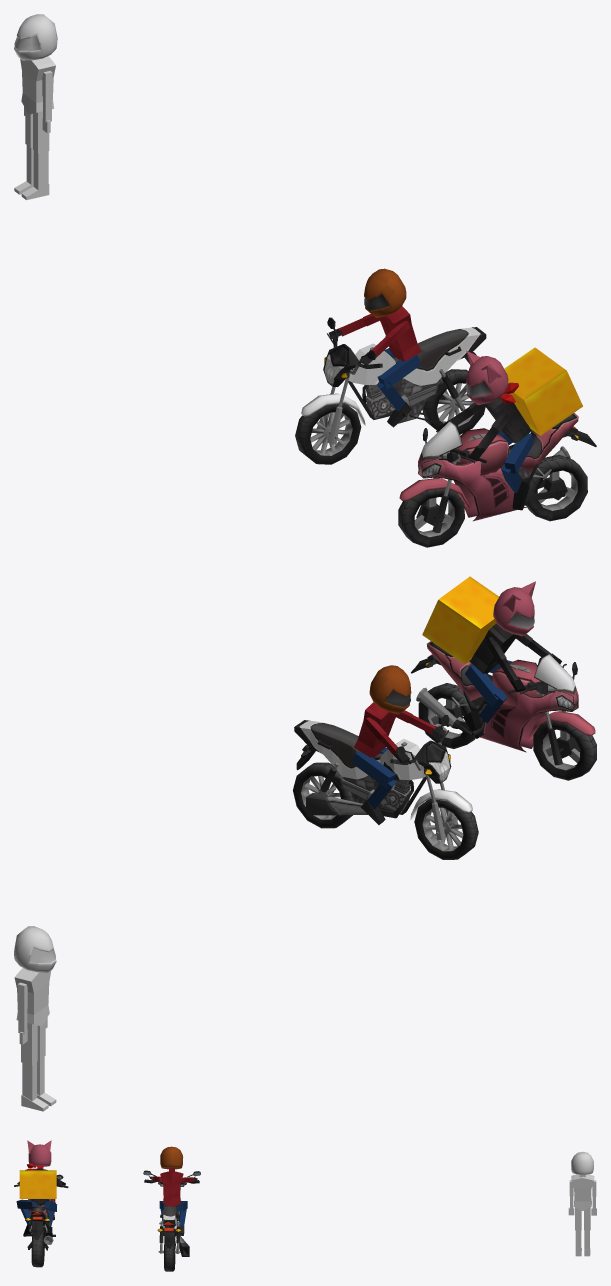
The model's file is corpo.fbx.
3 views of the same model, one above another, from view 1: azimuth 30°, elevation 25°; view 2: azimuth 150°, elevation 25°; view 3: azimuth 270°, elevation 25° (orthographic). The views are drawn at different scales.
Visible parts, largest first — view 1: moto-ninja-rosa.001, moto-cg- branca, Cube, Cube.001, Cube.002, Cube.004; view 2: moto-cg- branca, moto-ninja-rosa.001, Cube, Cube.002, Cube.001, Cube.004; view 3: Cube, Cube.002, moto-cg- branca, Cube.001, moto-ninja-rosa.001, Cube.004.
Part boxes in pixels (box(x1,y1,x2,y2)): moto-ninja-rosa.001: box(398, 413, 596, 547); moto-cg- branca: box(295, 317, 486, 464); Cube: box(14, 14, 57, 200); Cube.001: box(438, 350, 533, 510); Cube.002: box(329, 268, 421, 427); Cube.004: box(504, 347, 582, 435); moto-cg- branca: box(293, 715, 478, 859); moto-ninja-rosa.001: box(411, 641, 596, 780); Cube: box(14, 926, 56, 1111); Cube.002: box(352, 665, 446, 824); Cube.001: box(463, 581, 561, 738); Cube.004: box(422, 576, 498, 664); Cube: box(568, 1151, 596, 1256); Cube.002: box(150, 1146, 197, 1235); moto-cg- branca: box(143, 1170, 200, 1271); Cube.001: box(16, 1140, 65, 1237); moto-ninja-rosa.001: box(14, 1174, 68, 1267); Cube.004: box(19, 1170, 56, 1198).
Size of the model in its own units: 181 by 165 by 820.
